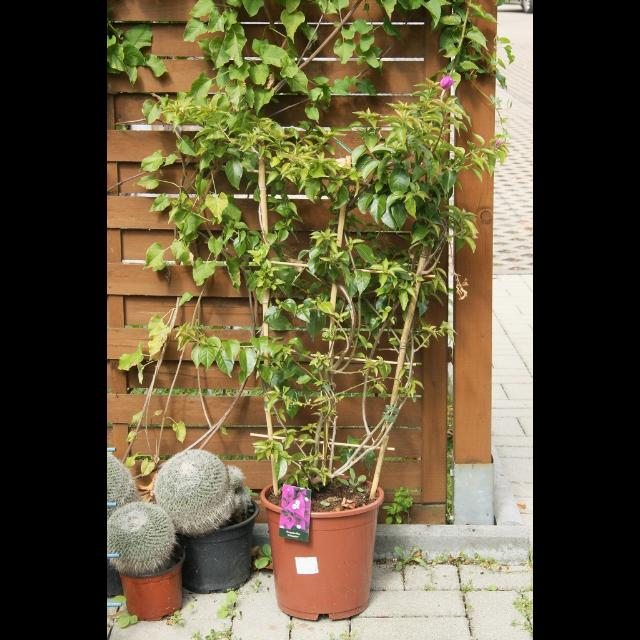Flower: (438, 71, 458, 89)
